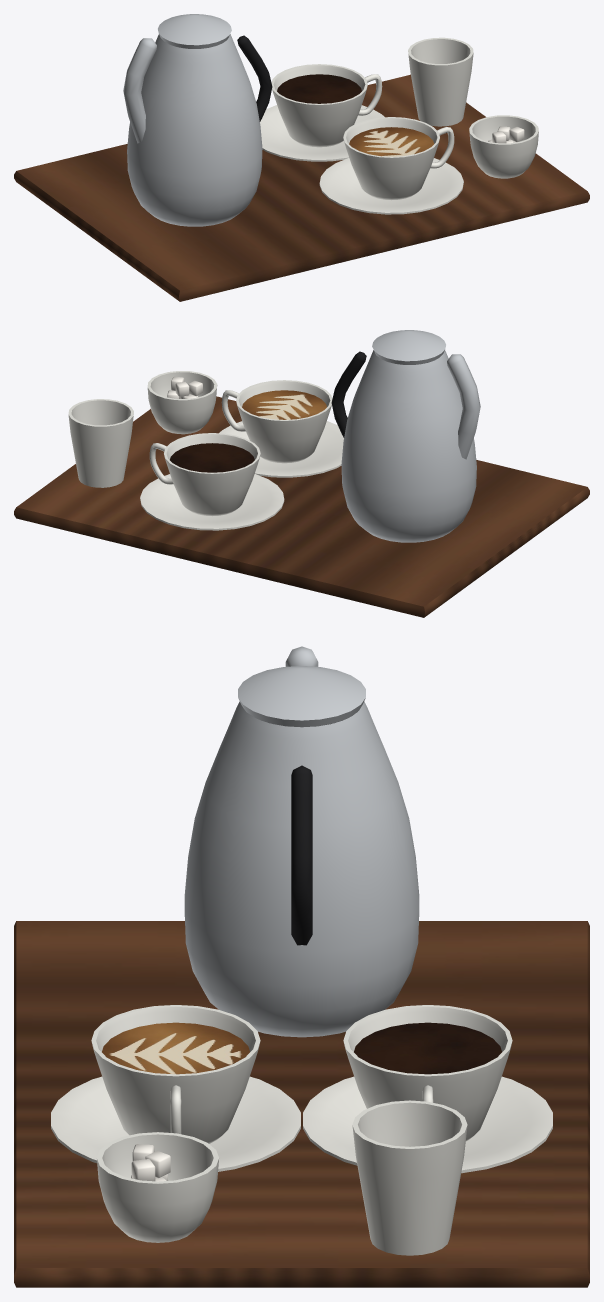
Rendered from tray_coffee_set_tray.glb.
The picture shows the model from 3 angles, top to bottom: view 1: azimuth 30°, elevation 25°; view 2: azimuth 150°, elevation 25°; view 3: azimuth 270°, elevation 25°; orthographic projection. The views are drawn at different scales.
Visible parts, largest first — view 1: tray_coffee_set_tray; view 2: tray_coffee_set_tray; view 3: tray_coffee_set_tray.
Part boxes in pixels (x1=…): tray_coffee_set_tray: x1=14, y1=14, x2=589, y2=301; tray_coffee_set_tray: x1=14, y1=330, x2=589, y2=617; tray_coffee_set_tray: x1=14, y1=646, x2=589, y2=1287.
Size of the model in its own units: 0.46 by 0.217 by 0.32.
7 materials, 3 textured.
